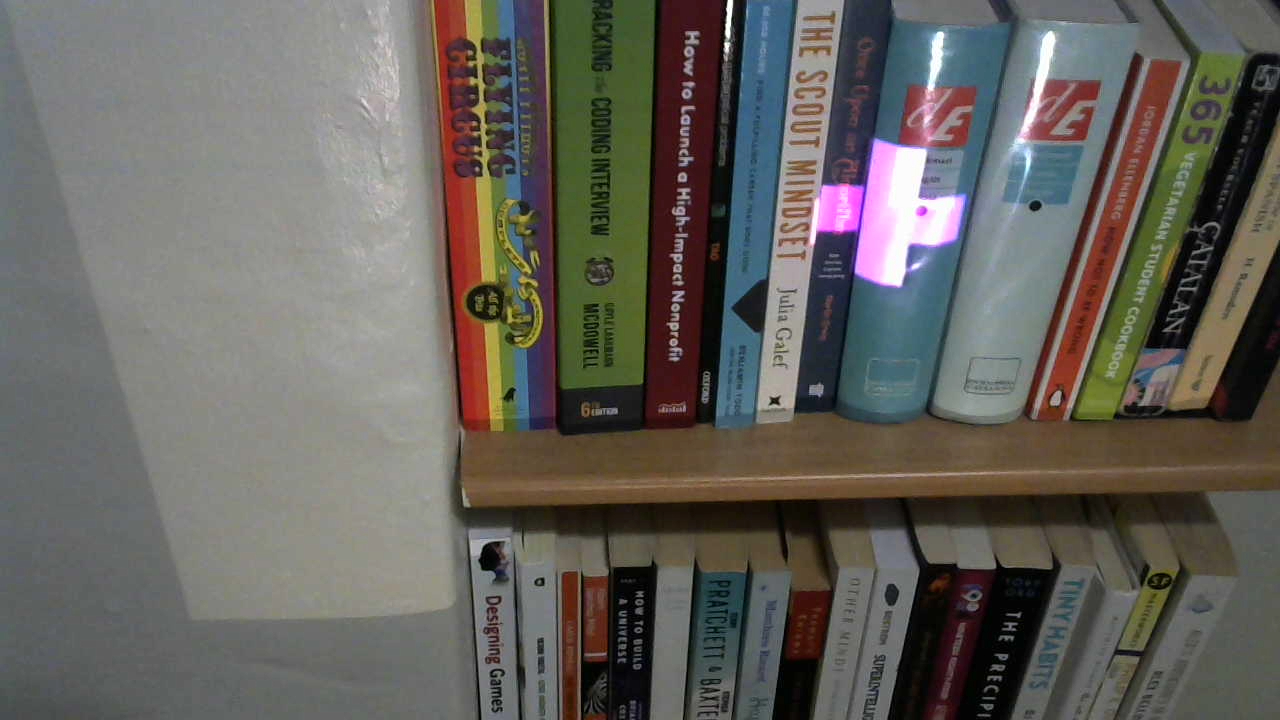calibration_symbol: (815, 138, 967, 289)
